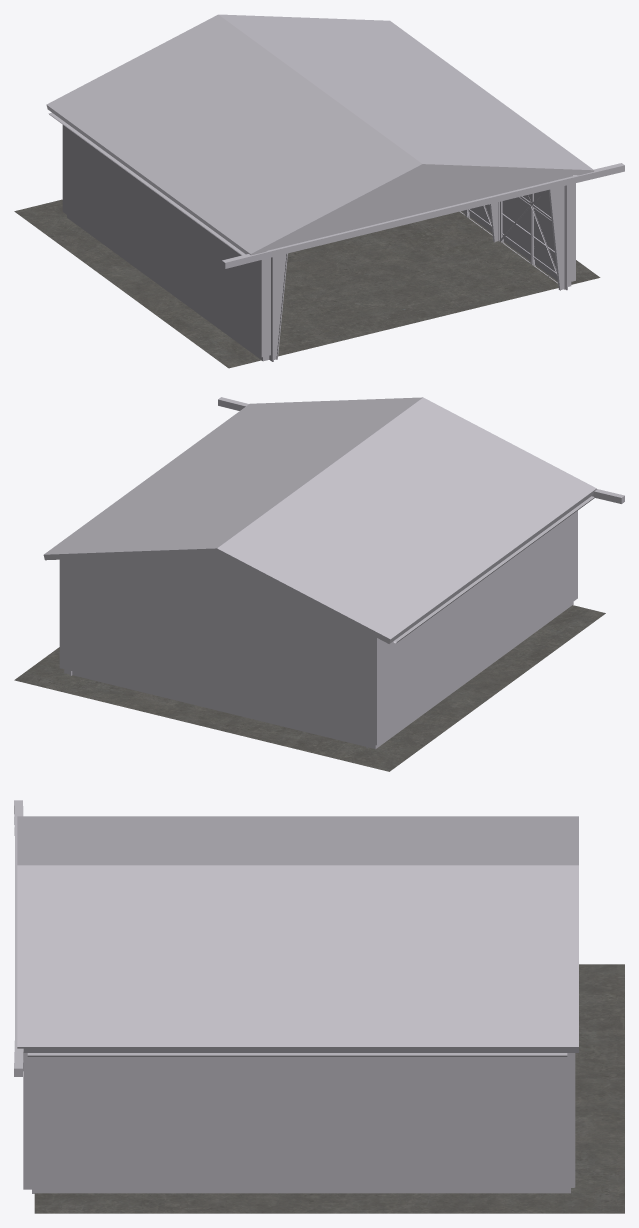
The model's file is hangar.gltf.
The picture shows the model from 3 angles, top to bottom: view 1: azimuth 30°, elevation 25°; view 2: azimuth 150°, elevation 25°; view 3: azimuth 270°, elevation 25°; orthographic projection. The views are drawn at different scales.
Visible parts, largest first — view 1: AirHangar, Plane; view 2: AirHangar, Plane; view 3: AirHangar, Plane.
Boxes of the visible parts, x1,y1,x2,y2 form: AirHangar: (46, 14, 624, 361); Plane: (14, 199, 600, 368); AirHangar: (43, 397, 624, 748); Plane: (14, 605, 605, 771); AirHangar: (14, 800, 578, 1193); Plane: (34, 964, 624, 1213).
Size of the model in its own units: 21.5 by 8.41 by 20.7.
2 materials, 1 textured.
